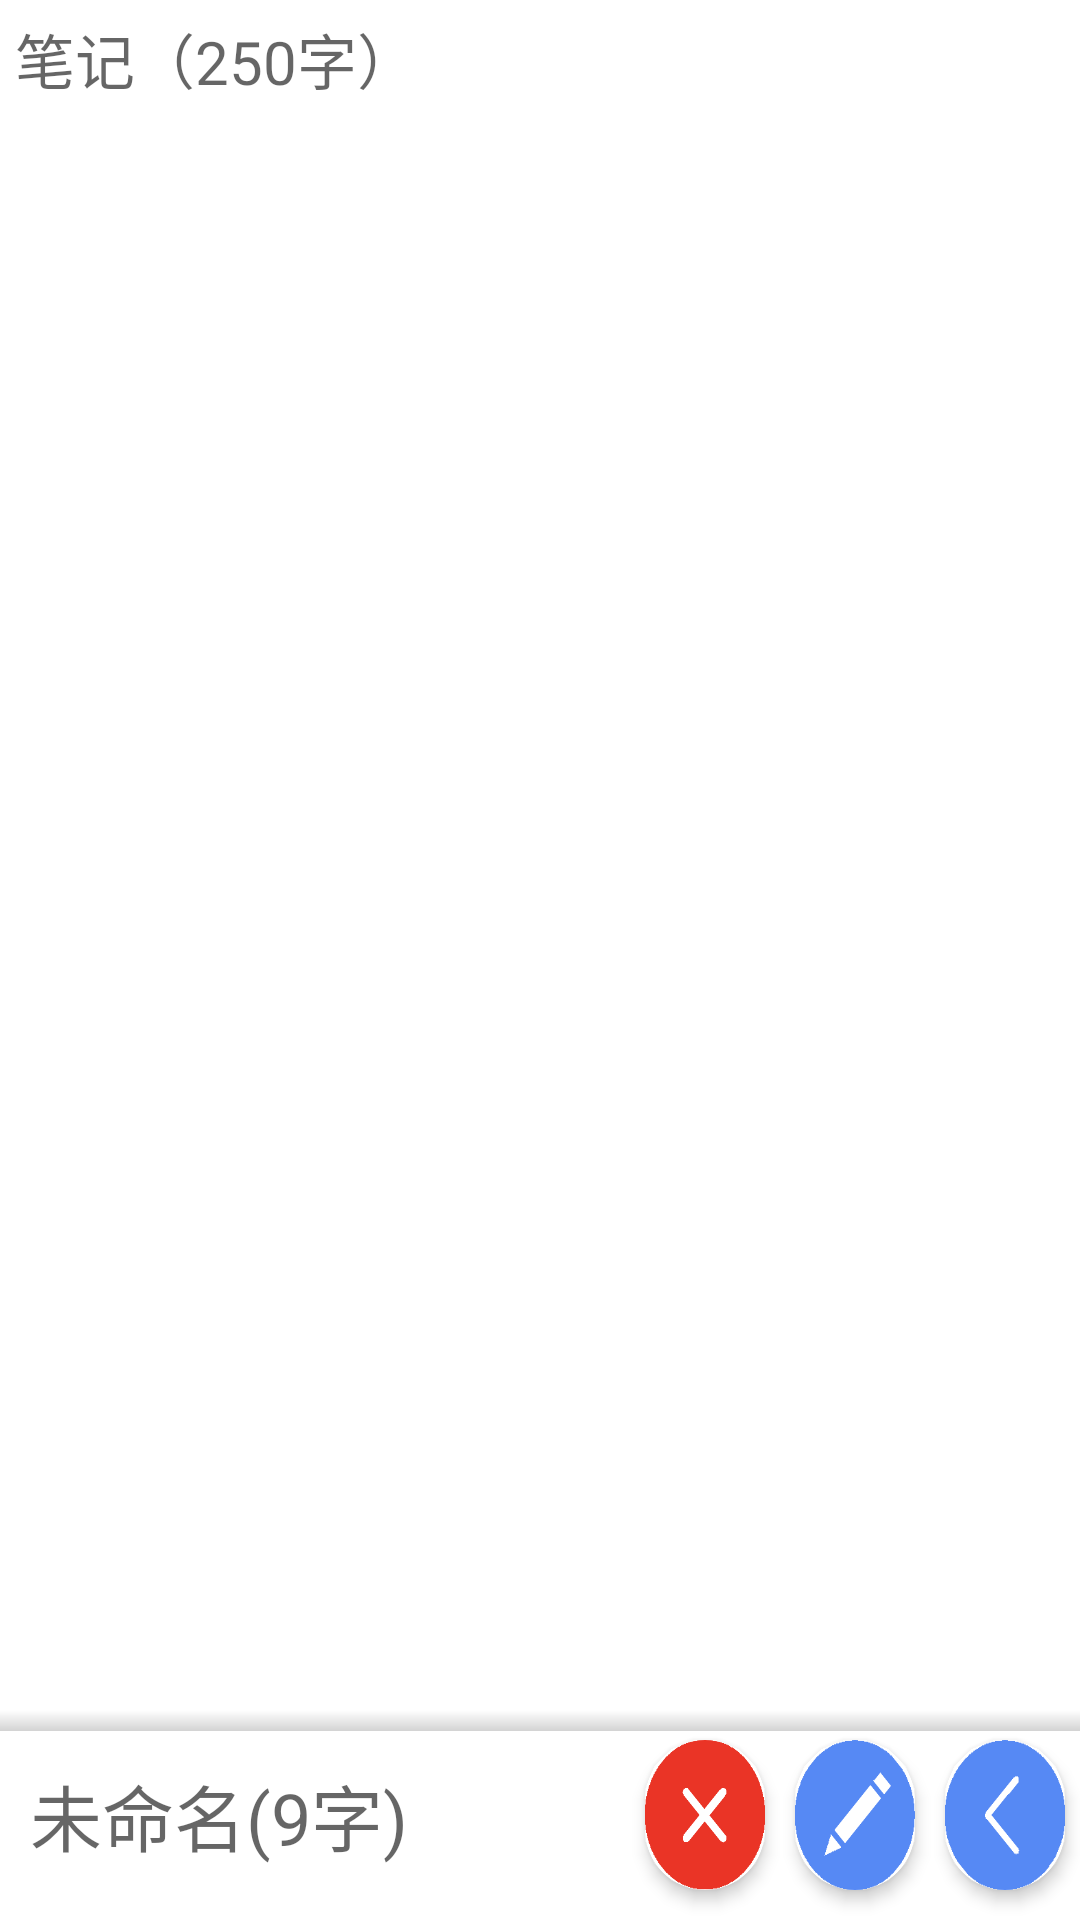

Screen size 1080×1920. Icon name, then its center in pixels as [x,y]:
back: [1005,1815]
delete: [705,1815]
